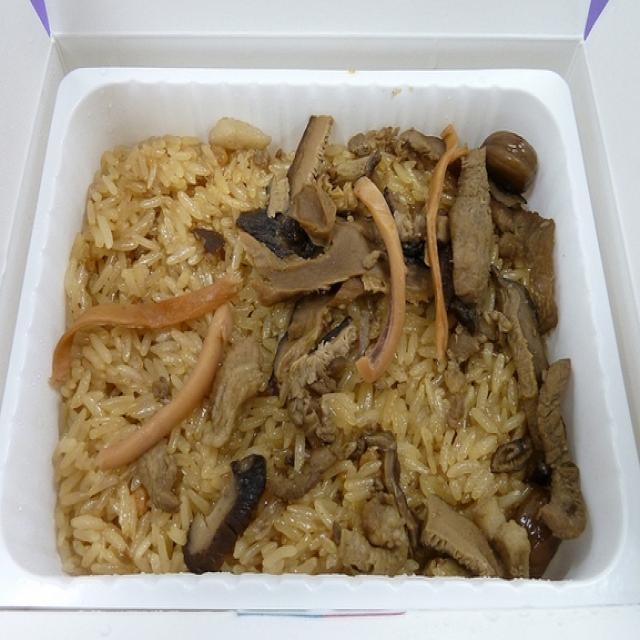米饭主食: (33, 66, 591, 581)
